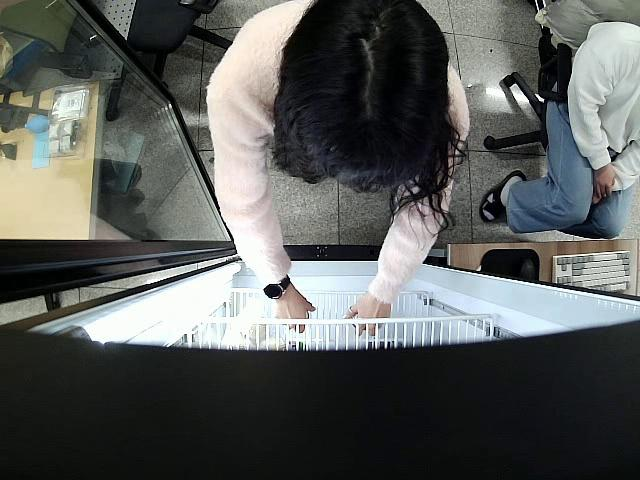00_hand: (274, 282, 315, 333), (344, 295, 392, 336), (594, 169, 616, 203)
